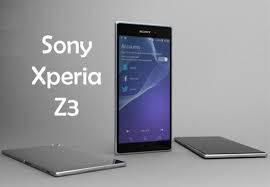sony: (116, 21, 176, 157)
